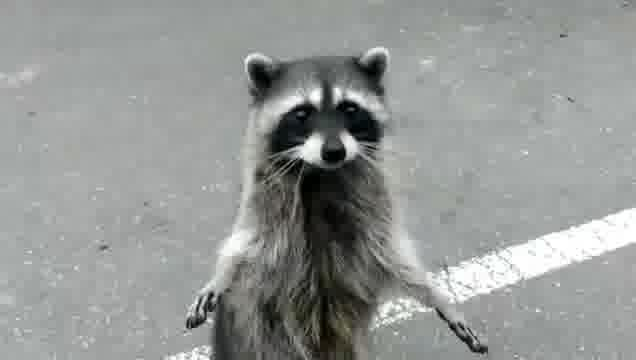raccoon: (184, 48, 488, 360)
